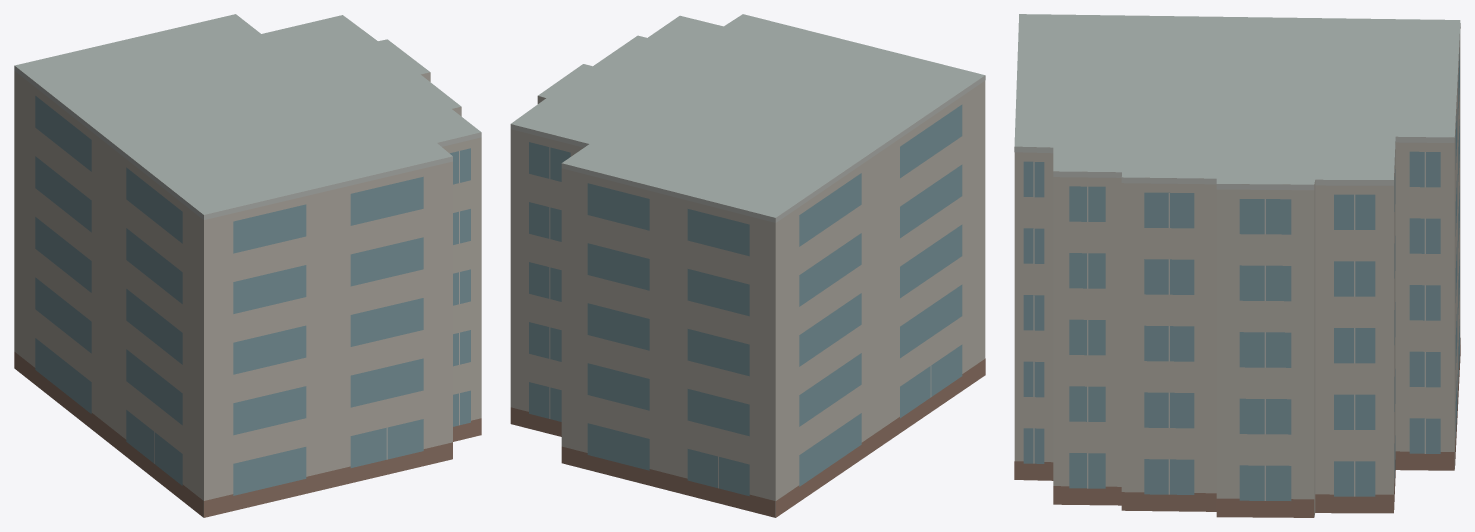
The model's file is survey-upis-32973791.glb.
3 renders of one model, left to right at view 1: azimuth 30°, elevation 25°; view 2: azimuth 150°, elevation 25°; view 3: azimuth 270°, elevation 25°, orthographic. The views are drawn at different scales.
Visible parts, largest first — view 1: survey-upis-32973791.tmp; view 2: survey-upis-32973791.tmp; view 3: survey-upis-32973791.tmp.
Boxes of the visible parts, x1,y1,x2,y2 form: survey-upis-32973791.tmp: (14,14,481,517); survey-upis-32973791.tmp: (510,14,985,517); survey-upis-32973791.tmp: (1014,14,1460,517).
Size of the model in its own units: 15.71 by 14.3 by 17.36.
